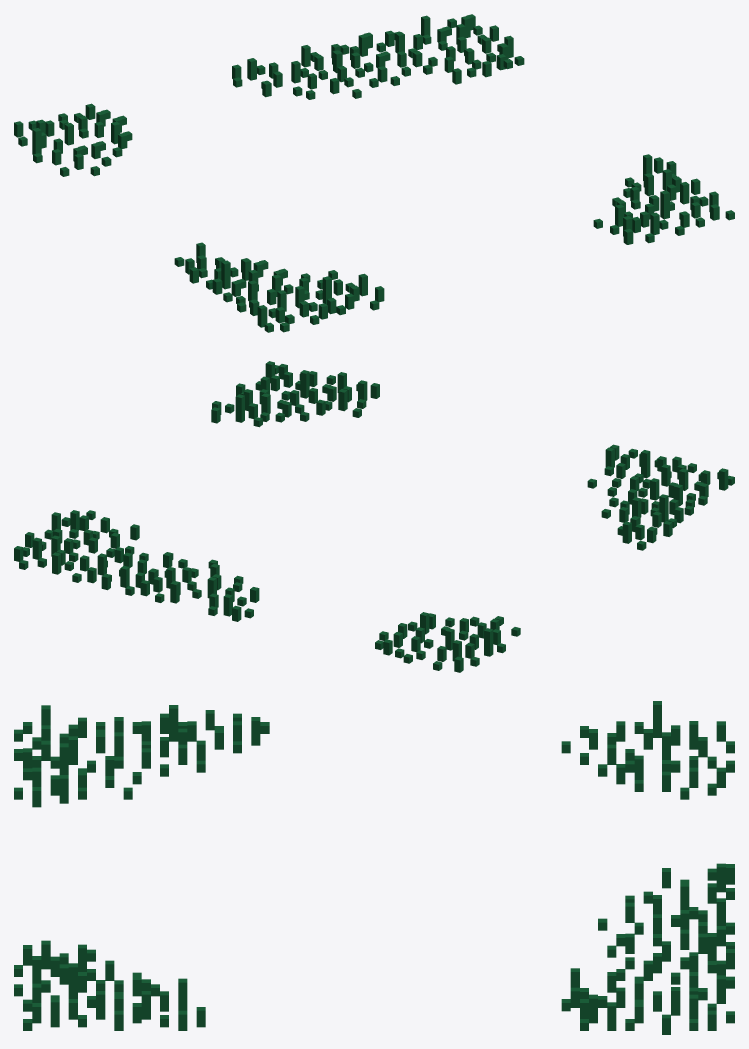
The model's file is river_plants_3_overtile.glb.
3 renders of one model, top to bottom at view 1: azimuth 30°, elevation 25°; view 2: azimuth 150°, elevation 25°; view 3: azimuth 270°, elevation 25°, orthographic. The views are drawn at different scales.
Visible parts, largest first — view 1: river_plants_3_overtile; view 2: river_plants_3_overtile; view 3: river_plants_3_overtile.
Part boxes in pixels (left/top/right/bottom): river_plants_3_overtile: left=14, top=14, right=734, bottom=332; river_plants_3_overtile: left=14, top=361, right=734, bottom=672; river_plants_3_overtile: left=14, top=701, right=734, bottom=1034.
Size of the model in its own units: 8 by 0.4 by 7.9.
1 material, 1 textured.
